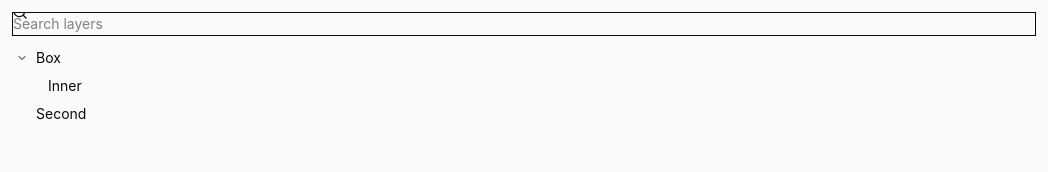
Test case: drag reorder › opens a collapsed container the drag rests on
Click the button named "Collapse Box".
click(22, 58)  # box [12, 48, 32, 68]
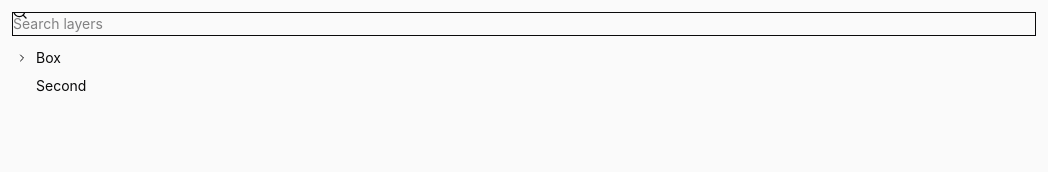
Expected: the button "Inner" is gone
Press the mouse on the list item "Second" at [524, 86], box [12, 72, 1036, 100]
Wait 600 ms
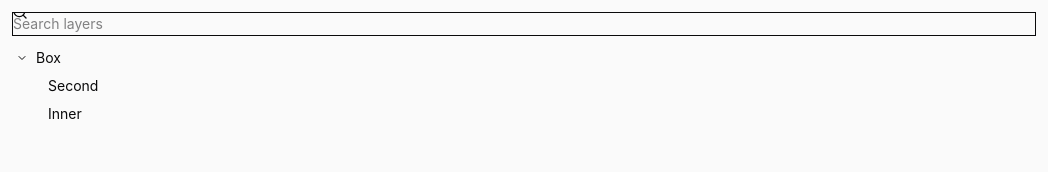
Expected: the button "Inner" is shown, [48, 103, 984, 126]
